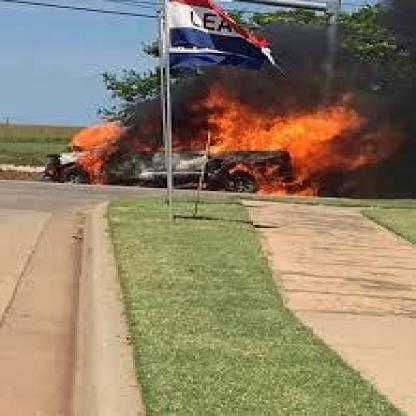fire: (65, 90, 390, 196)
